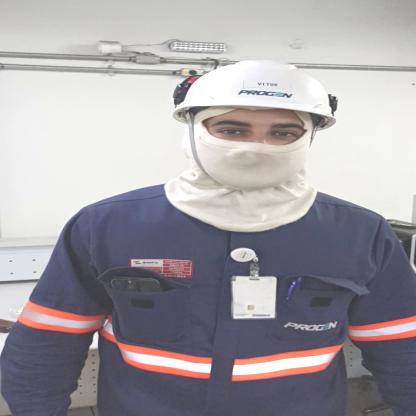Balaclava: (162, 110, 322, 235)
Capacete: (164, 58, 346, 127)
